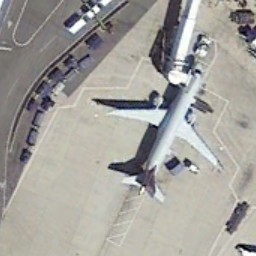Airplane: (98, 49, 230, 217)
